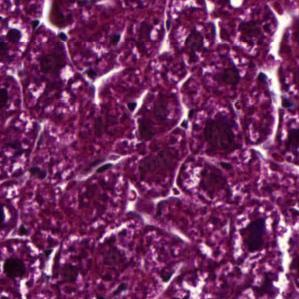inflammation: (125, 85, 187, 144), (0, 250, 43, 291)
